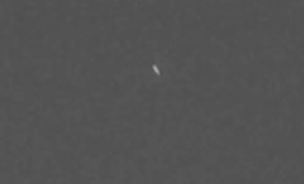Target: (153, 66, 159, 75)
